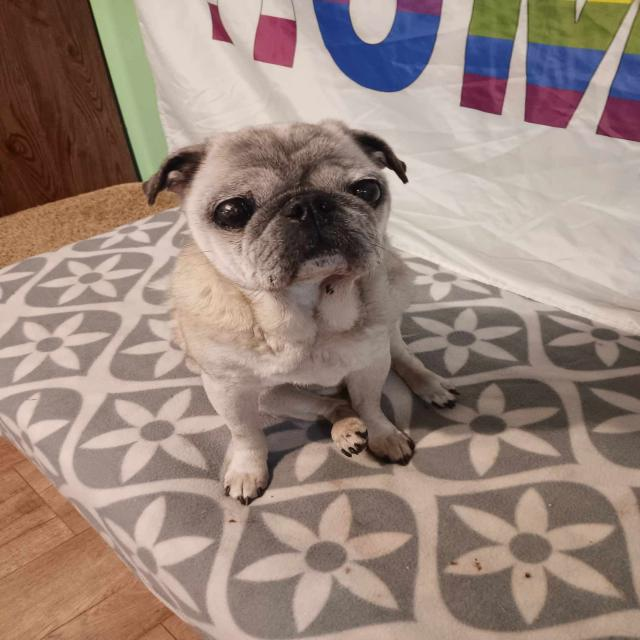pug_dog: (138, 116, 425, 303)
